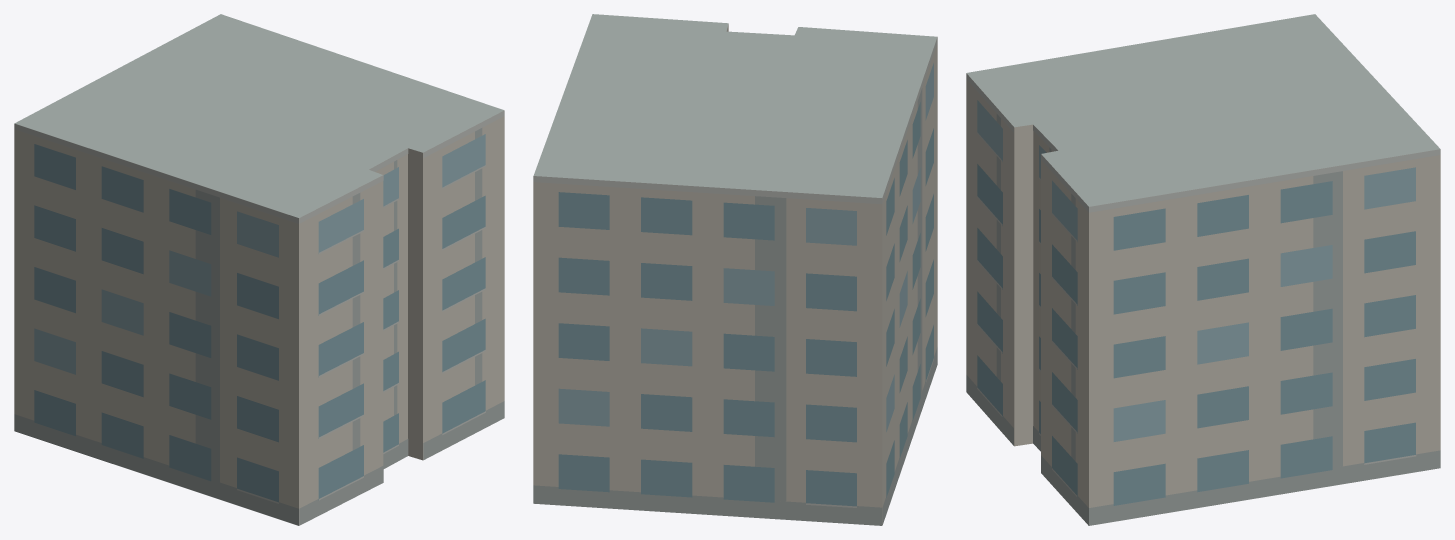
Rendered from survey-upis-32881763.glb.
The picture shows the model from 3 angles, left to right: view 1: azimuth 30°, elevation 25°; view 2: azimuth 150°, elevation 25°; view 3: azimuth 270°, elevation 25°; orthographic projection. The views are drawn at different scales.
Visible parts, largest first — view 1: survey-upis-32881763.tmp; view 2: survey-upis-32881763.tmp; view 3: survey-upis-32881763.tmp.
Part boxes in pixels (<box>): survey-upis-32881763.tmp: <box>14,14,504,525</box>; survey-upis-32881763.tmp: <box>533,14,937,525</box>; survey-upis-32881763.tmp: <box>966,14,1440,525</box>.
Size of the model in its own units: 17.06 by 13.15 by 17.73.
